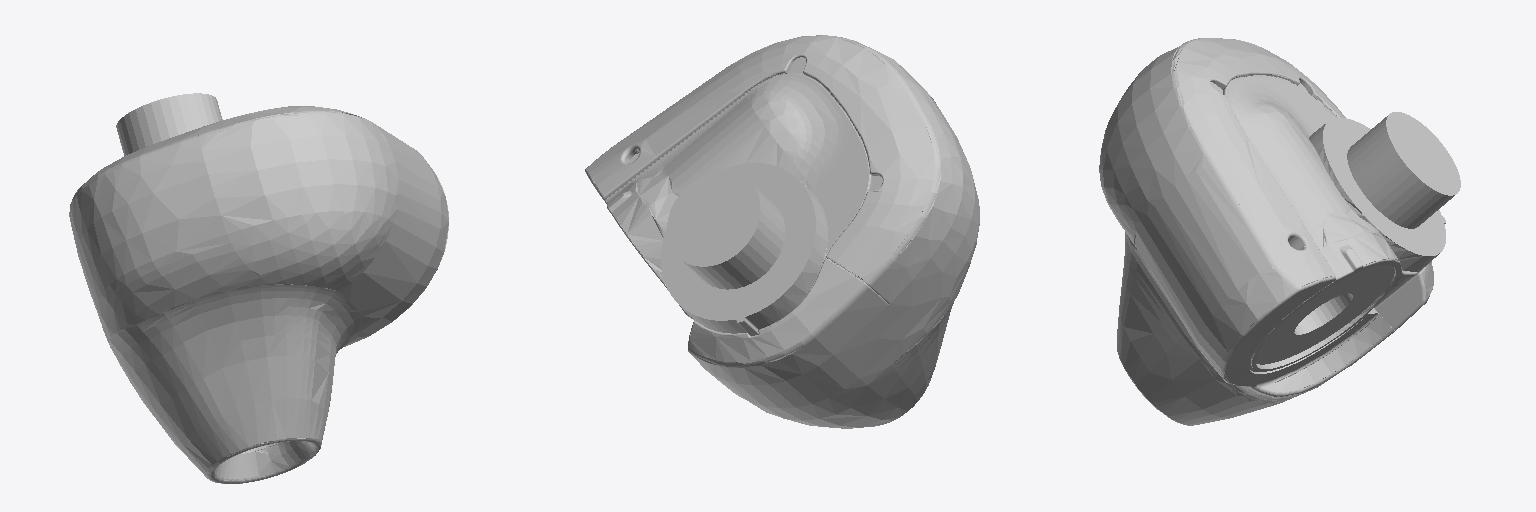
The model's file is IRB14000_rev00_Link6_L.obj.
3 renders of one model, left to right at view 1: azimuth 30°, elevation 25°; view 2: azimuth 150°, elevation 25°; view 3: azimuth 270°, elevation 25°, orthographic.
Parts seen in each view (by area): view 1: Link6_L3.0, Link6_L3.0-2; view 2: Link6_L3.0, Link6_L3.0-1, Link6_L3.0-2; view 3: Link6_L3.0, Link6_L3.0-1, Link6_L3.0-2.
Part boxes in pixels (x1,y1,x2,y2): Link6_L3.0: (69, 106, 448, 483); Link6_L3.0-2: (116, 93, 222, 155); Link6_L3.0: (585, 35, 979, 428); Link6_L3.0-1: (605, 73, 870, 335); Link6_L3.0-2: (667, 171, 784, 289); Link6_L3.0: (1099, 38, 1433, 425); Link6_L3.0-1: (1223, 76, 1445, 371); Link6_L3.0-2: (1256, 112, 1460, 368).
Size of the model in its own units: 0.1187 by 0.1174 by 0.1037.